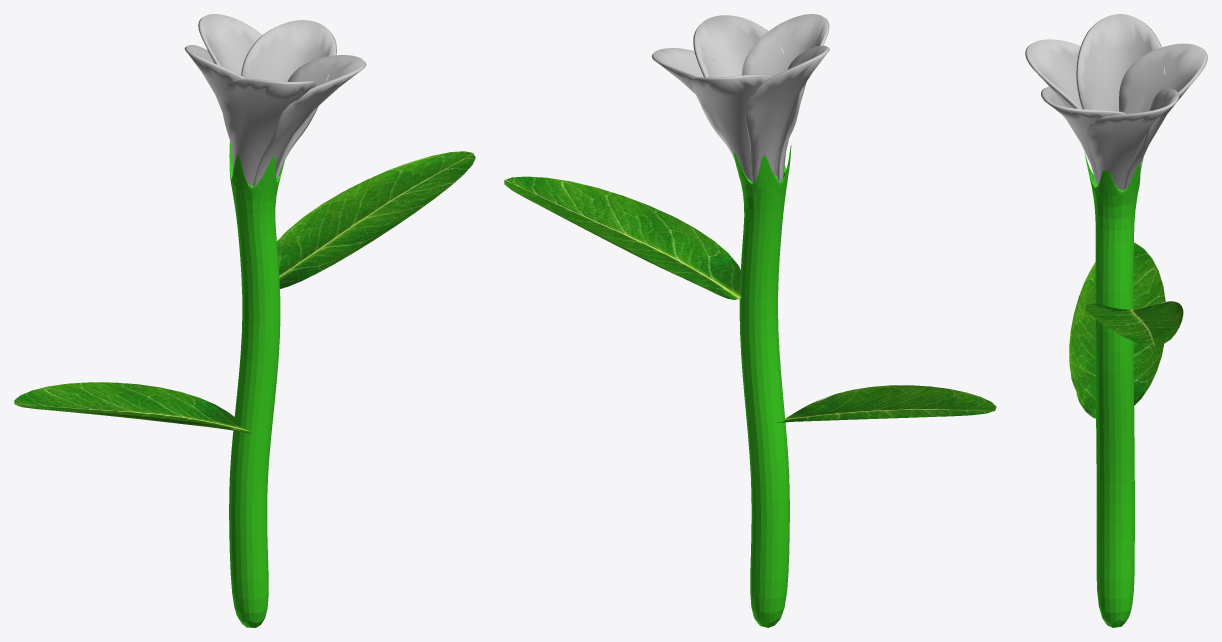
File: plumeria.fbx
3 views of the same model, side by side, from view 1: azimuth 30°, elevation 25°; view 2: azimuth 150°, elevation 25°; view 3: azimuth 270°, elevation 25° (orthographic).
Visible parts, largest first — view 1: Circle.002; view 2: Circle.002; view 3: Circle.002.
Part boxes in pixels (x1,y1,x2,y2): Circle.002: [14, 14, 475, 627]; Circle.002: [504, 14, 996, 627]; Circle.002: [1025, 14, 1207, 627].
Size of the model in its own units: 422 by 501 by 141.
